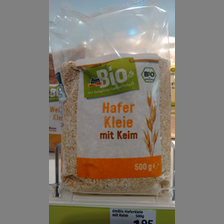cereal: (55, 48, 172, 194)
